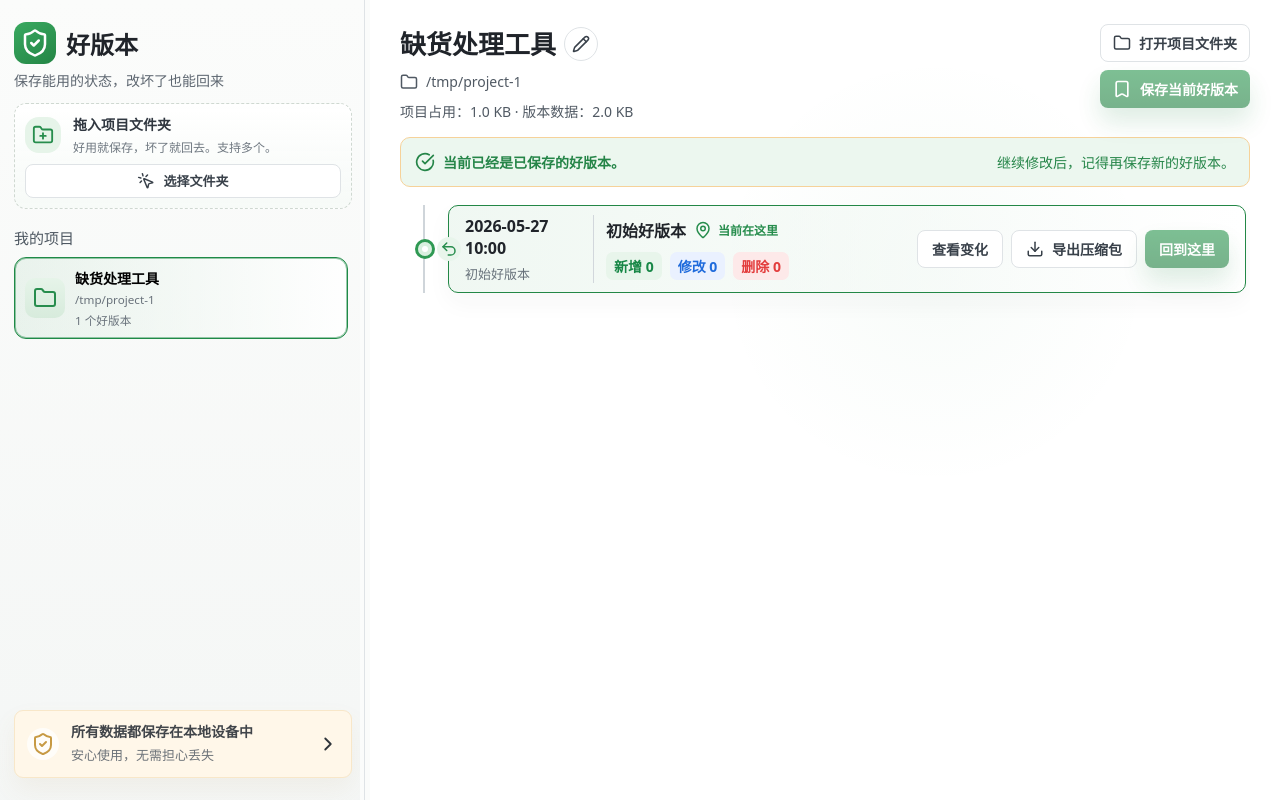
it: App › 添加项目按钮支持一次选择多个文件夹
This screenshot has width=1280, height=800.
Expected: the heading "缺货处理工具" is shown, [400,24,556,62]
Click the button "选择文件夹" at point(183, 181), box [25,164,341,198]
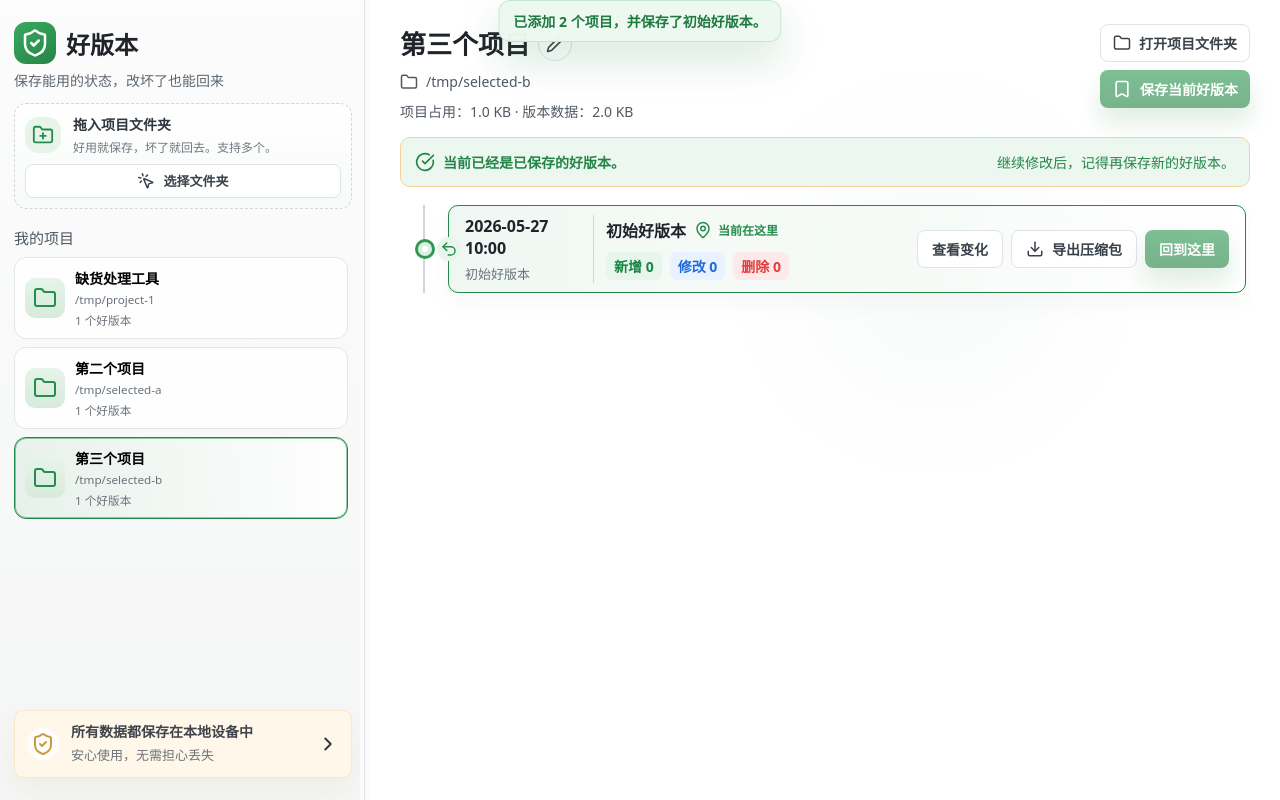
Expected: the text "已添加 2 个项目，并保存了初始好版本。" is shown, [498,0,782,42]
Expected: the heading "第三个项目" is shown, [400,24,530,62]
